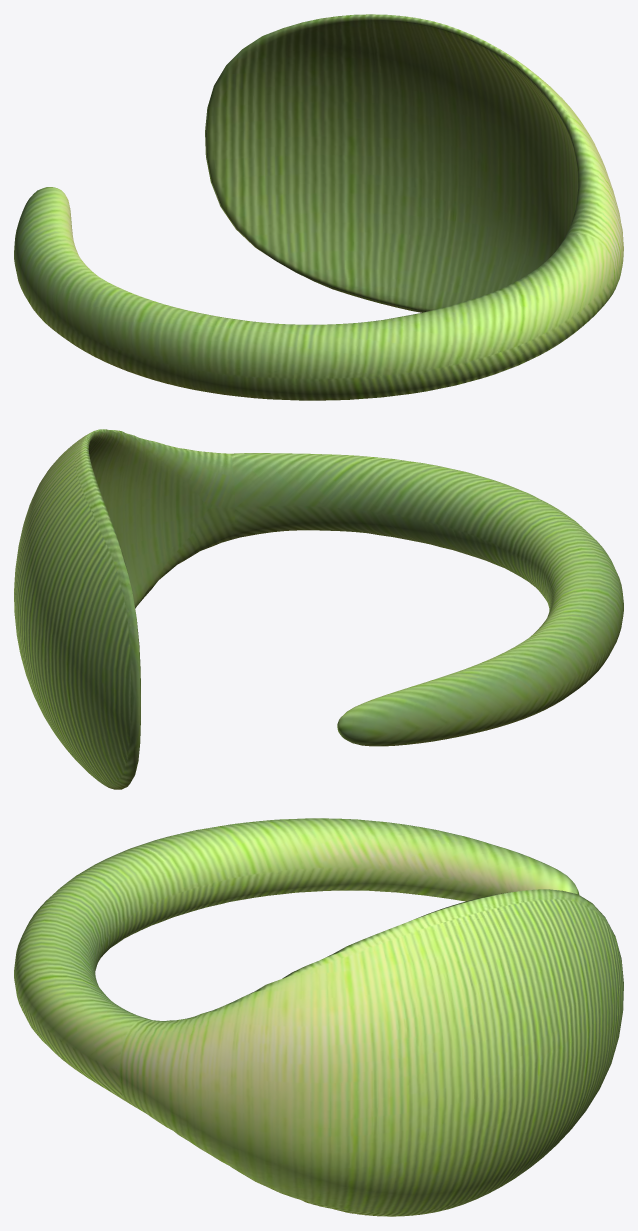
Rendered from 02_Fetus.glb.
The picture shows the model from 3 angles, top to bottom: view 1: azimuth 30°, elevation 25°; view 2: azimuth 150°, elevation 25°; view 3: azimuth 270°, elevation 25°; orthographic projection. The views are drawn at different scales.
Parts seen in each view (by area): view 1: 02_Fetus; view 2: 02_Fetus; view 3: 02_Fetus.
Boxes of the visible parts, x1,y1,x2,y2 form: 02_Fetus: (14, 14, 623, 400); 02_Fetus: (14, 429, 623, 789); 02_Fetus: (14, 818, 623, 1216).
Size of the model in its own units: 0.0673 by 0.0353 by 0.0646.
1 material, 1 textured.
